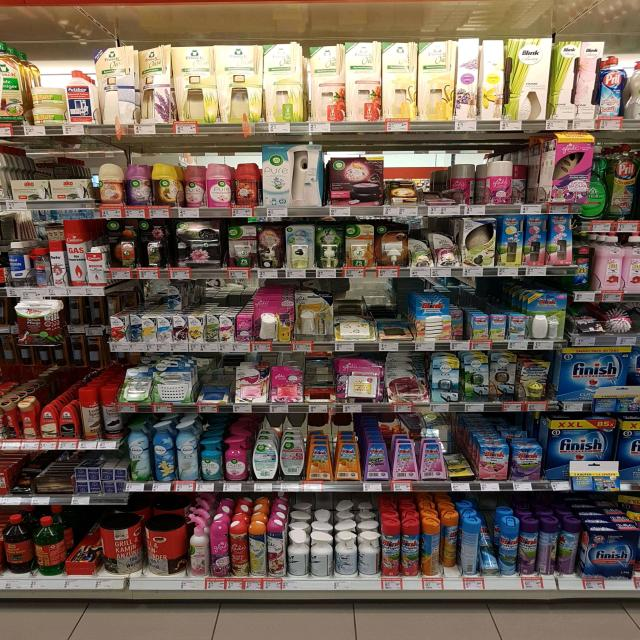unorganised: (305, 45, 345, 122), (136, 45, 172, 123), (68, 299, 106, 365), (143, 520, 187, 577), (2, 346, 67, 369), (186, 519, 209, 577), (230, 164, 259, 208), (420, 519, 442, 576), (79, 388, 99, 442), (479, 523, 500, 574), (443, 516, 460, 577), (310, 535, 334, 578), (180, 166, 204, 208), (287, 534, 309, 578), (455, 165, 478, 204), (360, 535, 380, 576), (514, 164, 534, 204), (128, 316, 143, 344)
